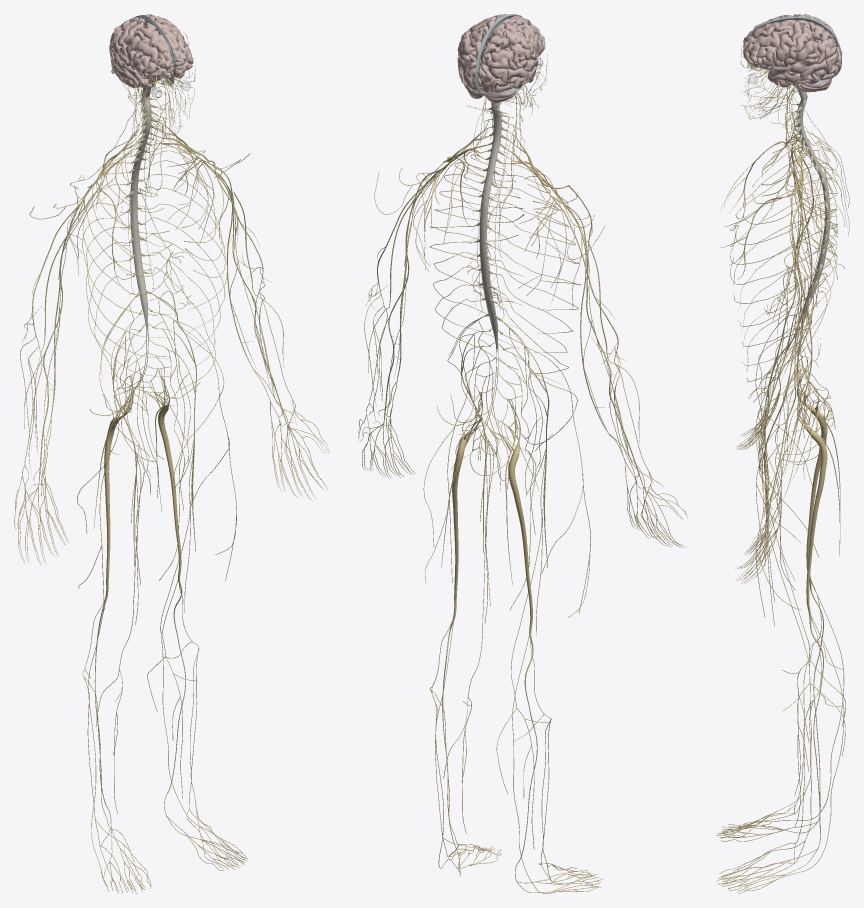
Rendered from adult_male.nervous.LOD1.glb.
3 renders of one model, left to right at view 1: azimuth 30°, elevation 25°; view 2: azimuth 150°, elevation 25°; view 3: azimuth 270°, elevation 25°, orthographic. The views are drawn at different scales.
Visible parts, largest first — view 1: ADULT.MALE.NERVOUS.SPINAL_DURA, ADULT.MALE.NERVOUS.INTERCOSTAL_NERVES.R, ADULT.MALE.NERVOUS.INTERCOSTAL_NERVES.L, ADULT.MALE.NERVOUS.SCIATIC_NERVE.R, ADULT.MALE.NERVOUS.SCIATIC_NERVE.L; view 2: ADULT.MALE.NERVOUS.SPINAL_DURA, ADULT.MALE.NERVOUS.INTERCOSTAL_NERVES.L, ADULT.MALE.NERVOUS.INTERCOSTAL_NERVES.R, ADULT.MALE.NERVOUS.SCIATIC_NERVE.R, ADULT.MALE.NERVOUS.SCIATIC_NERVE.L, ADULT.MALE.NERVOUS.SAPHENOUS_NERVE.R; view 3: ADULT.MALE.NERVOUS.INTERCOSTAL_NERVES.L, ADULT.MALE.NERVOUS.SPINAL_DURA, ADULT.MALE.NERVOUS.INTERCOSTAL_NERVES.R, ADULT.MALE.NERVOUS.SCIATIC_NERVE.L, ADULT.MALE.NERVOUS.SCIATIC_NERVE.R, ADULT.MALE.NERVOUS.MIDDLE_FRONTAL_GYRUS.L, ADULT.MALE.NERVOUS.SAPHENOUS_NERVE.L, ADULT.MALE.NERVOUS.LATERAL_FEMORAL_CUTANEOUS_NERVE.L, ADULT.MALE.NERVOUS.SAPHENOUS_NERVE.R, ADULT.MALE.NERVOUS.MEDIAN_NERVE.L, ADULT.MALE.NERVOUS.MIDDLE_TEMPORAL_GYRUS.L, ADULT.MALE.NERVOUS.PRECENTRAL_GYRUS.L (+18 smaller).
Part boxes in pixels (<box>): ADULT.MALE.NERVOUS.SPINAL_DURA: <box>128,95,156,335</box>; ADULT.MALE.NERVOUS.INTERCOSTAL_NERVES.R: <box>82,148,173,392</box>; ADULT.MALE.NERVOUS.INTERCOSTAL_NERVES.L: <box>141,143,227,389</box>; ADULT.MALE.NERVOUS.SCIATIC_NERVE.R: <box>104,376,132,595</box>; ADULT.MALE.NERVOUS.SCIATIC_NERVE.L: <box>148,369,181,577</box>; ADULT.MALE.NERVOUS.SPINAL_DURA: <box>476,104,506,352</box>; ADULT.MALE.NERVOUS.INTERCOSTAL_NERVES.L: <box>429,154,524,369</box>; ADULT.MALE.NERVOUS.INTERCOSTAL_NERVES.R: <box>491,163,581,373</box>; ADULT.MALE.NERVOUS.SCIATIC_NERVE.R: <box>495,399,532,632</box>; ADULT.MALE.NERVOUS.SCIATIC_NERVE.L: <box>452,393,481,613</box>; ADULT.MALE.NERVOUS.SAPHENOUS_NERVE.R: <box>496,452,545,849</box>; ADULT.MALE.NERVOUS.INTERCOSTAL_NERVES.L: <box>730,154,837,382</box>; ADULT.MALE.NERVOUS.SPINAL_DURA: <box>796,96,830,330</box>; ADULT.MALE.NERVOUS.INTERCOSTAL_NERVES.R: <box>730,140,837,371</box>; ADULT.MALE.NERVOUS.SCIATIC_NERVE.L: <box>797,384,827,612</box>; ADULT.MALE.NERVOUS.SCIATIC_NERVE.R: <box>797,371,827,577</box>; ADULT.MALE.NERVOUS.MIDDLE_FRONTAL_GYRUS.L: <box>744,29,793,62</box>; ADULT.MALE.NERVOUS.SAPHENOUS_NERVE.L: <box>761,453,845,827</box>; ADULT.MALE.NERVOUS.LATERAL_FEMORAL_CUTANEOUS_NERVE.L: <box>755,340,818,617</box>; ADULT.MALE.NERVOUS.SAPHENOUS_NERVE.R: <box>761,424,845,795</box>; ADULT.MALE.NERVOUS.MEDIAN_NERVE.L: <box>769,198,802,508</box>; ADULT.MALE.NERVOUS.MIDDLE_TEMPORAL_GYRUS.L: <box>773,60,827,83</box>; ADULT.MALE.NERVOUS.PRECENTRAL_GYRUS.L: <box>776,21,804,62</box>.
Size of the model in its own units: 0.6675 by 1.69 by 0.2426.
